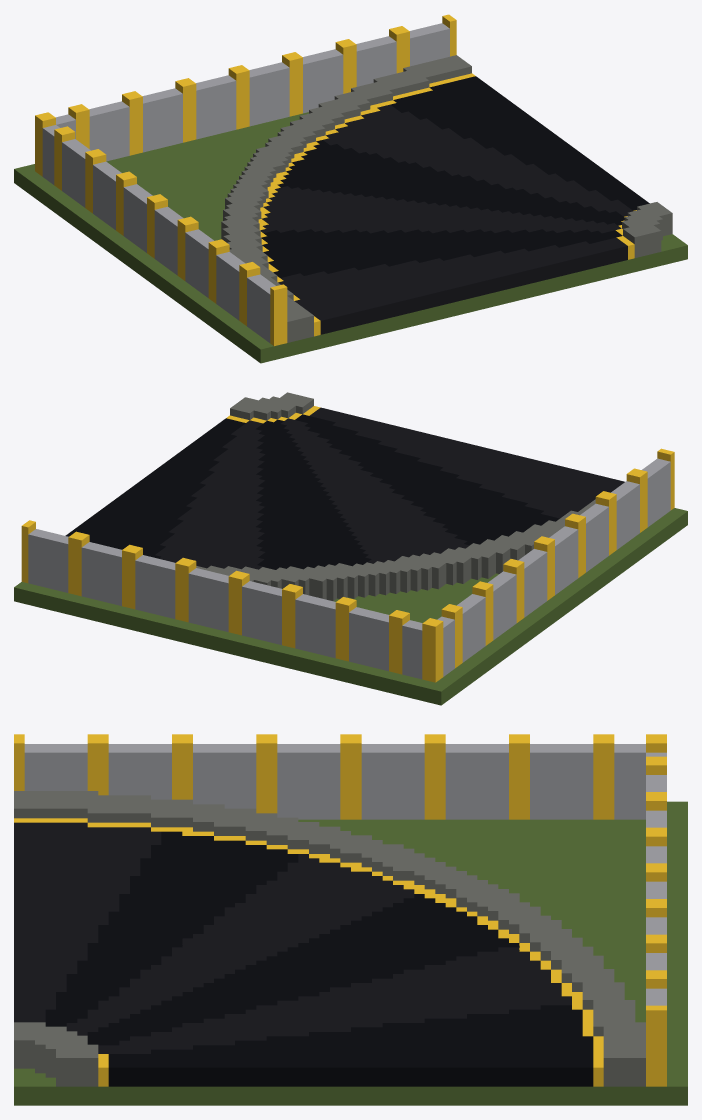
File: tile_curve.glb
3 renders of one model, top to bottom at view 1: azimuth 30°, elevation 25°; view 2: azimuth 150°, elevation 25°; view 3: azimuth 270°, elevation 25°, orthographic. The views are drawn at different scales.
Parts seen in each view (by area): view 1: tile_curve; view 2: tile_curve; view 3: tile_curve.
Boxes of the visible parts, x1,y1,x2,y2 form: tile_curve: (14,14,687,363); tile_curve: (14,392,687,705); tile_curve: (14,734,687,1105).
Size of the model in its own units: 4 by 0.625 by 4.
1 material, 1 textured.
